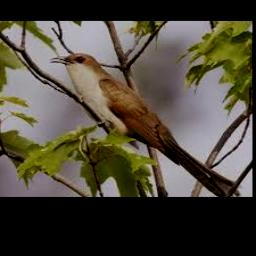Cuckoo: (49, 53, 242, 197)
